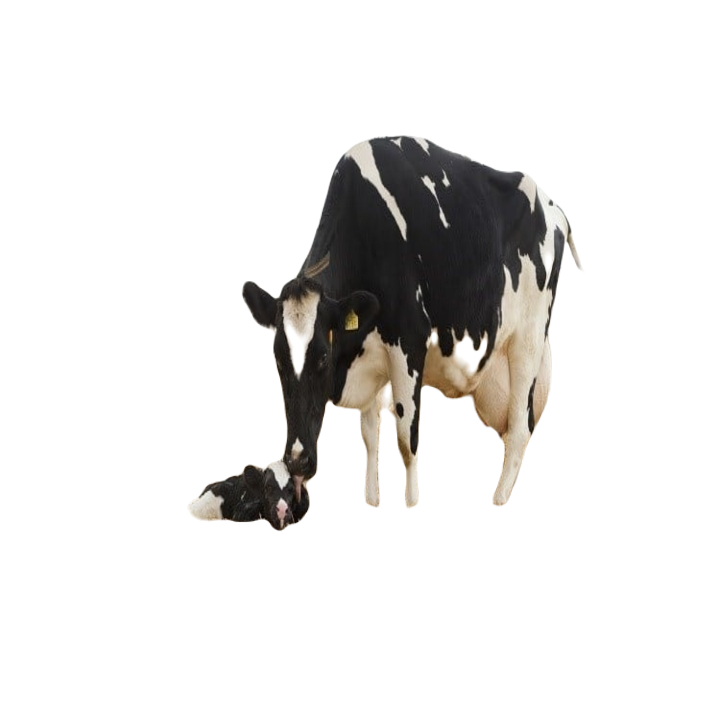Cow: (245, 133, 588, 512)
